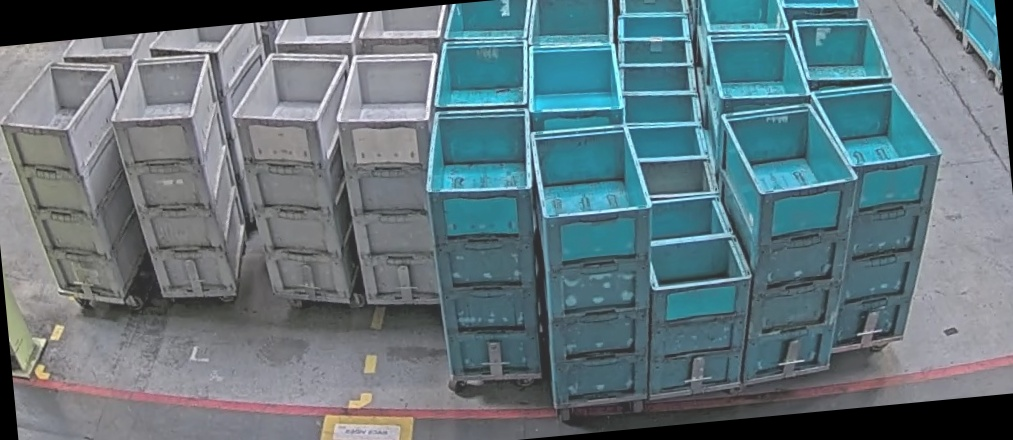4G: (225, 46, 373, 310), (0, 52, 151, 309), (105, 50, 254, 303), (329, 47, 462, 309)
B4: (709, 97, 876, 385), (525, 119, 671, 407), (808, 79, 961, 349), (419, 104, 556, 383)
B8: (629, 190, 763, 396)
